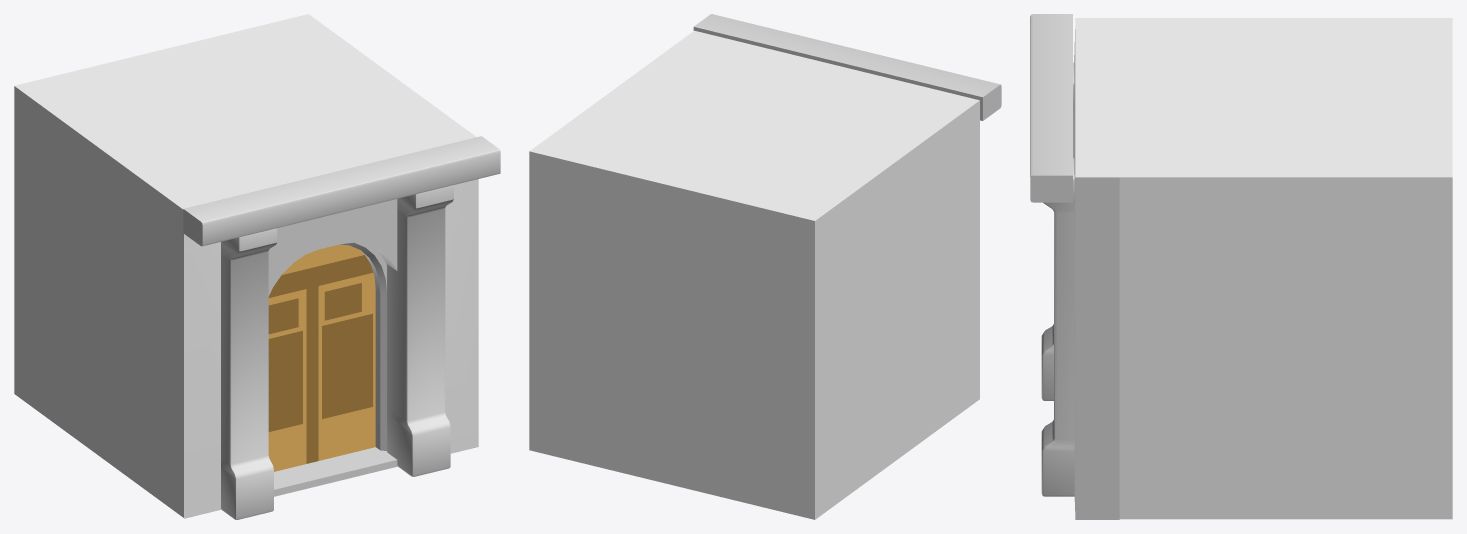
The model's file is Entrance1.fbx.
3 renders of one model, left to right at view 1: azimuth 30°, elevation 25°; view 2: azimuth 150°, elevation 25°; view 3: azimuth 270°, elevation 25°, orthographic. The views are drawn at different scales.
Visible parts, largest first — view 1: CUBE1, Box003, TopRoof, Door, DoorFrame; view 2: CUBE1, TopRoof; view 3: CUBE1, Door, Box003, TopRoof.
Boxes of the visible parts, x1=… form: CUBE1: x1=14, y1=14, x2=478, y2=518; Box003: x1=221, y1=185, x2=453, y2=519; TopRoof: x1=183, y1=136, x2=500, y2=246; Door: x1=184, y1=199, x2=478, y2=518; DoorFrame: x1=341, y1=242, x2=386, y2=450; CUBE1: x1=529, y1=30, x2=979, y2=519; TopRoof: x1=693, y1=14, x2=1001, y2=120; CUBE1: x1=1074, y1=18, x2=1452, y2=519; Door: x1=1075, y1=177, x2=1119, y2=519; Box003: x1=1041, y1=62, x2=1074, y2=496; TopRoof: x1=1030, y1=14, x2=1072, y2=202.
Size of the model in its own units: 30.39 by 30.36 by 33.59.
